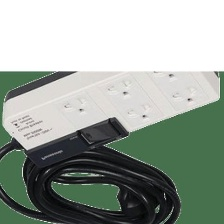three_eye_plug: (0, 47, 221, 170)
